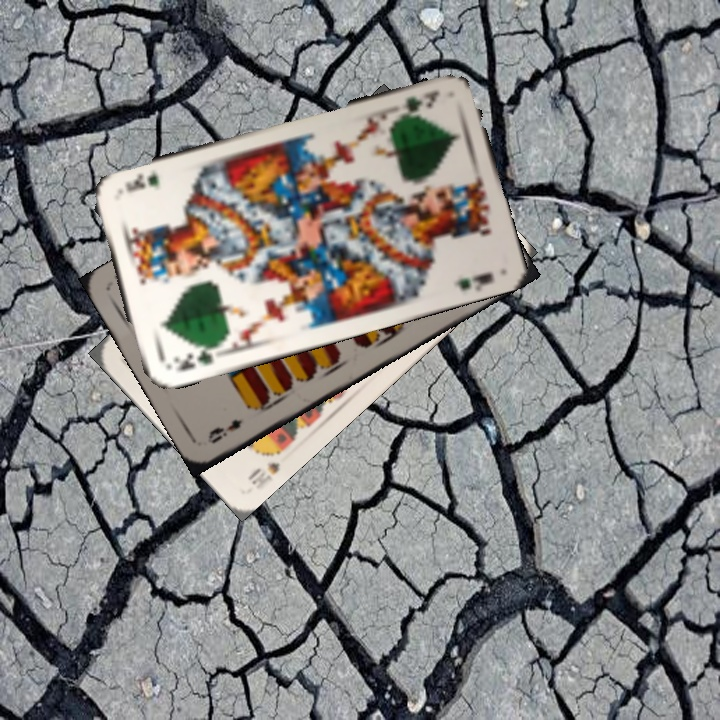E9: (203, 415, 245, 447)
GK: (168, 341, 220, 374), (394, 86, 442, 121)
S10: (244, 442, 288, 492)
